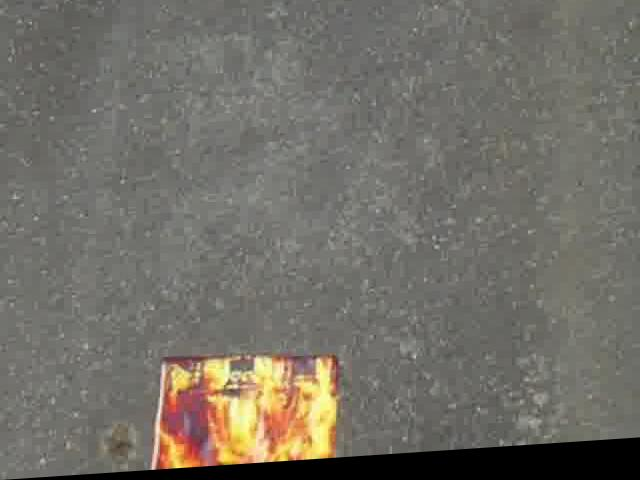fire-poster: (151, 349, 340, 472)
